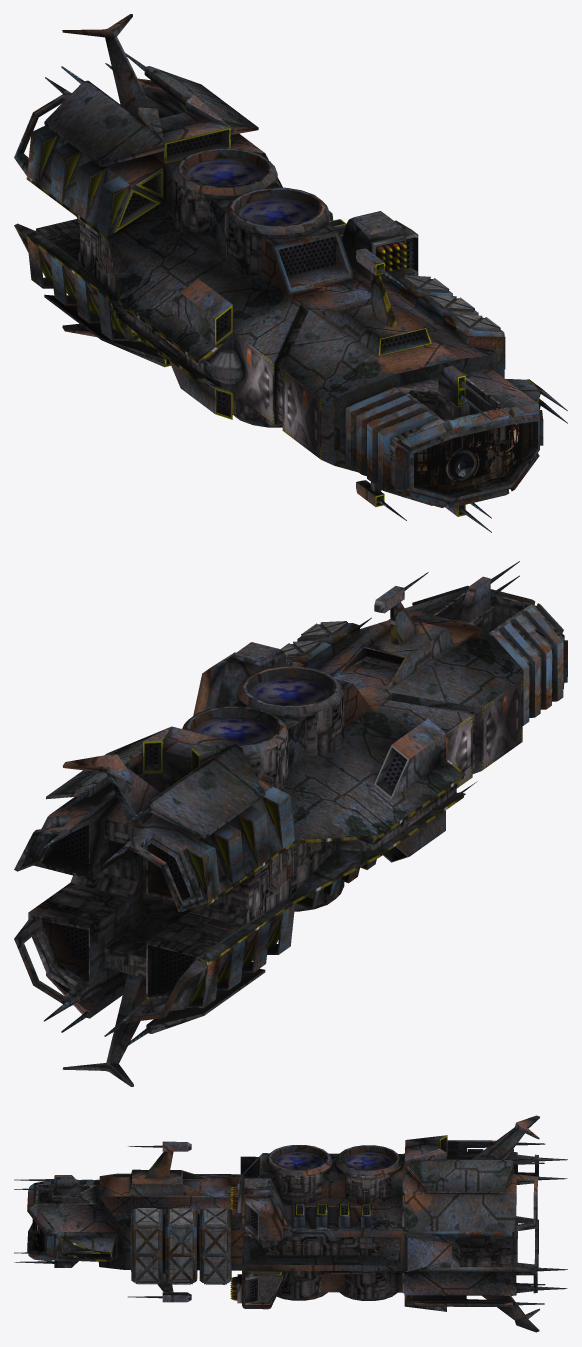
Rendered from Anna-V.obj.
The picture shows the model from 3 angles, top to bottom: view 1: azimuth 30°, elevation 25°; view 2: azimuth 150°, elevation 25°; view 3: azimuth 270°, elevation 25°; orthographic projection. The views are drawn at different scales.
Parts seen in each view (by area): view 1: objship_hull; view 2: objship_hull; view 3: objship_hull.
Part boxes in pixels (box(x1,y1,x2,y2)): objship_hull: box(14, 14, 567, 532); objship_hull: box(14, 561, 567, 1086); objship_hull: box(14, 1115, 567, 1332).
Bounding box in the file's own units: 42.17 × 53.16 × 132.
1 material, 1 textured.
